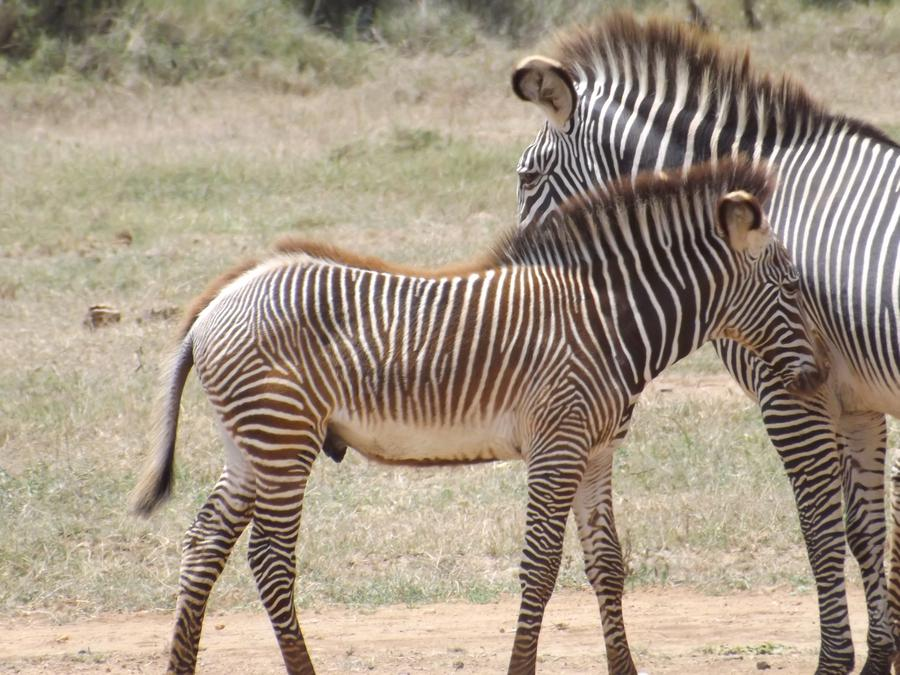zebra_grevys: (166, 254, 618, 455)
